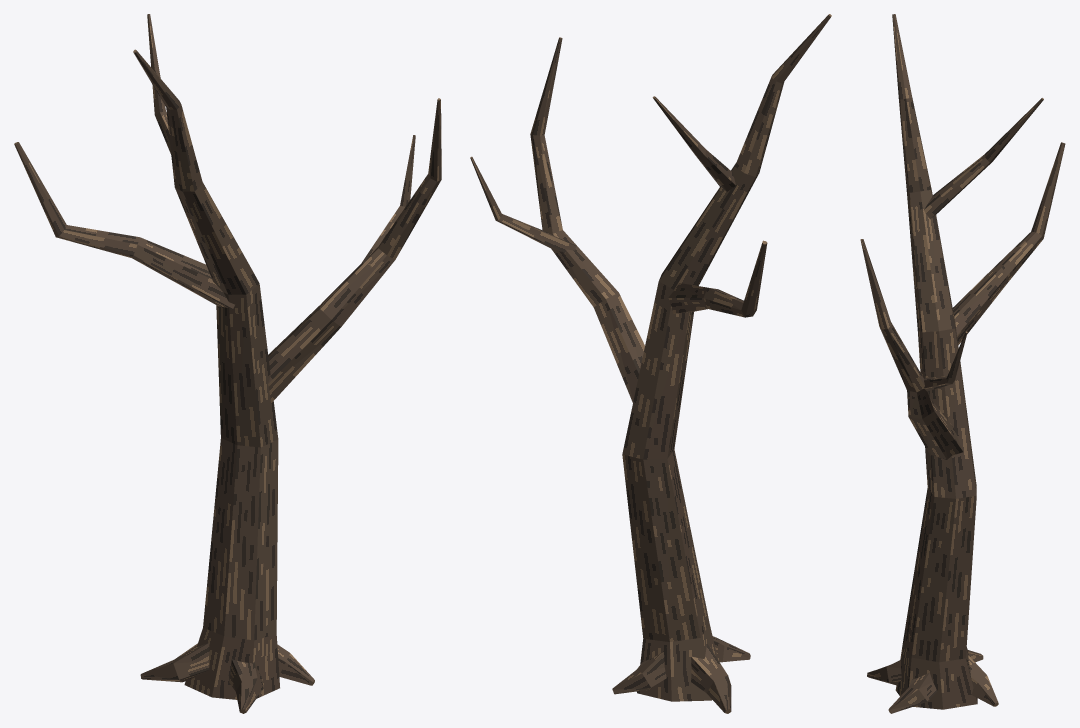
Rendered from t_tree_dead.glb.
3 views of the same model, side by side, from view 1: azimuth 30°, elevation 25°; view 2: azimuth 150°, elevation 25°; view 3: azimuth 270°, elevation 25° (orthographic). The views are drawn at different scales.
Visible parts, largest first — view 1: t_tree_dead_mesh; view 2: t_tree_dead_mesh; view 3: t_tree_dead_mesh.
Boxes of the visible parts, x1,y1,x2,y2 form: t_tree_dead_mesh: (14, 14, 441, 713); t_tree_dead_mesh: (470, 14, 831, 713); t_tree_dead_mesh: (860, 14, 1065, 713).
Bounding box in the file's own units: 1.61 × 3 × 0.8927.
Materials: 1 (1 with a texture image).
